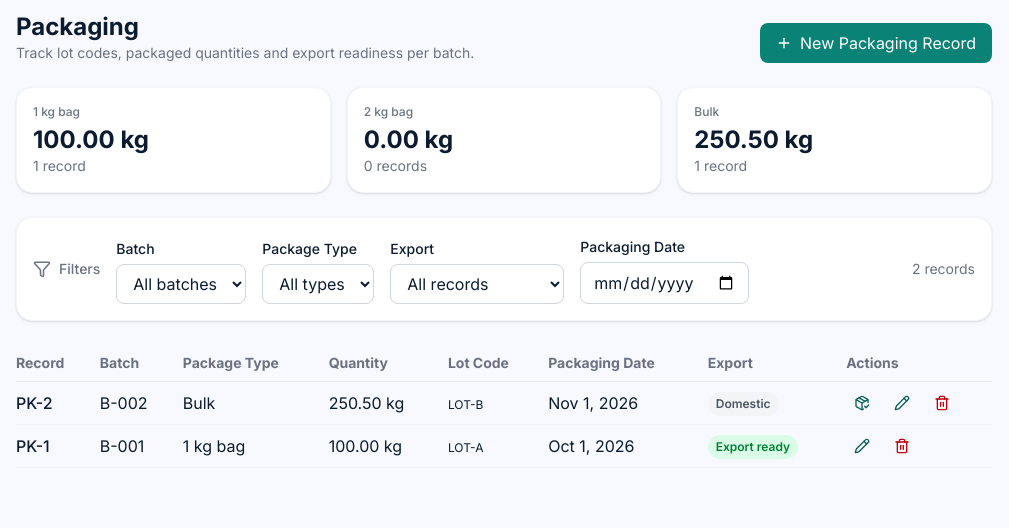
Test: PackagingRecordList › reports a failed export readiness change above the list
Expected: the text "PK-2" is shown, [16,382,100,424]
Click the button named "Mark ready". click: (862, 403)
box: [846,387,878,419]
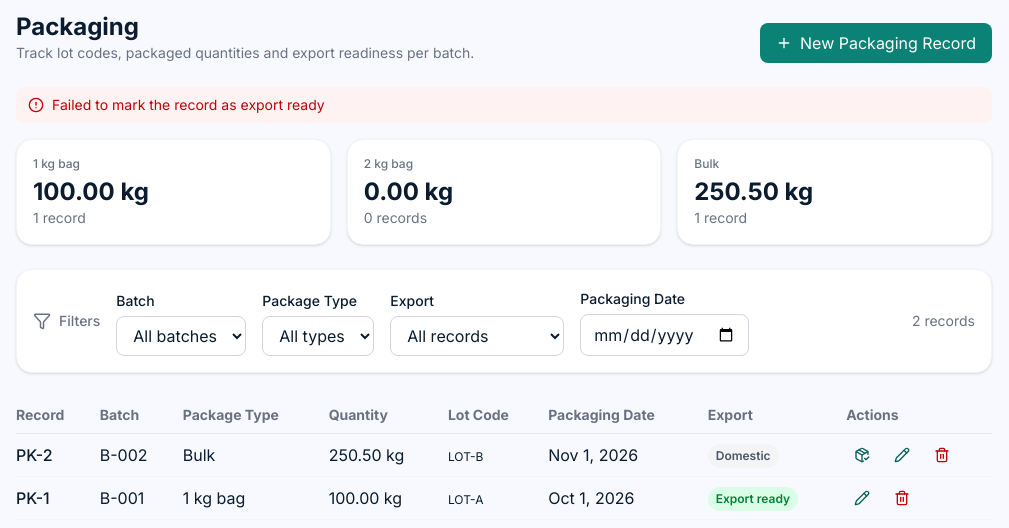
Expected: the text "PK-2" is shown, [16,434,100,476]
Now the text "Failed to mark the record as export ready" is shown, box [52,95,325,115]
